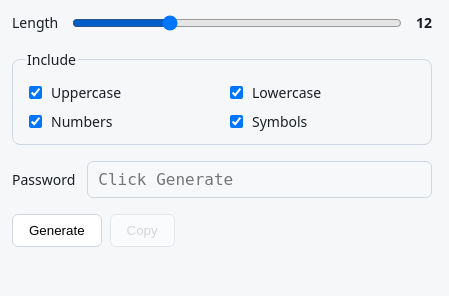
Test: picks characters with s[Math.floor(random() * s.length)] from the selected set only
Set the slider labelled "Length" to "8": point(125, 22) [72,14,402,30]
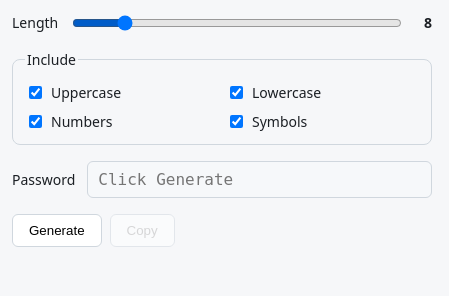
Click the checkbox labelled "Uppercase": point(36, 92) [29,86,42,99]
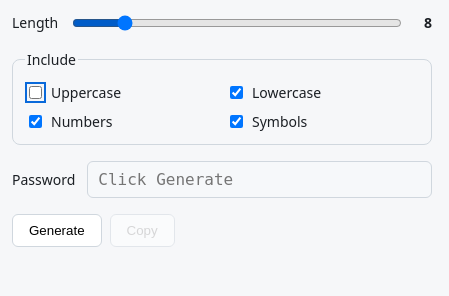
Click the checkbox labelled "Numbers": point(36, 122) [29,115,42,128]
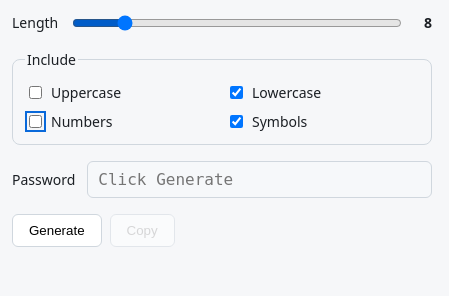
Click the checkbox labelled "Symbols": point(236, 122) [230,115,243,128]
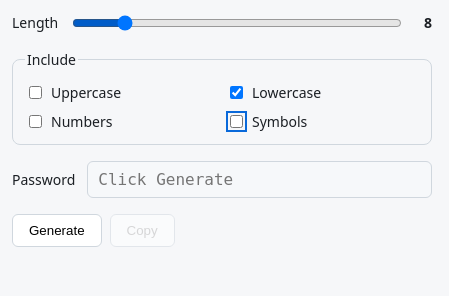
Click the button "Generate": point(57, 230) [12,214,102,247]
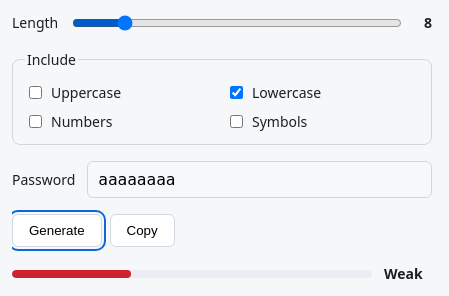
Now the field labelled "Password" holds "aaaaaaaa", box [87,161,432,198]
